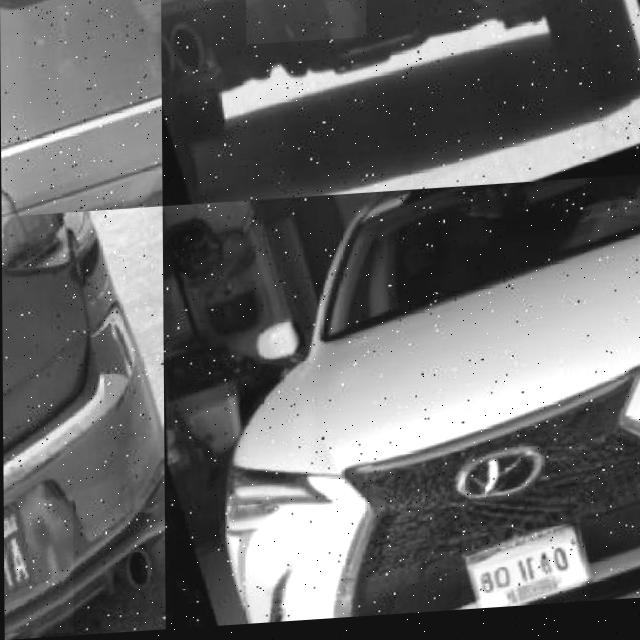LicensePlate: (461, 534, 589, 614), (3, 496, 73, 637), (246, 0, 366, 48)
